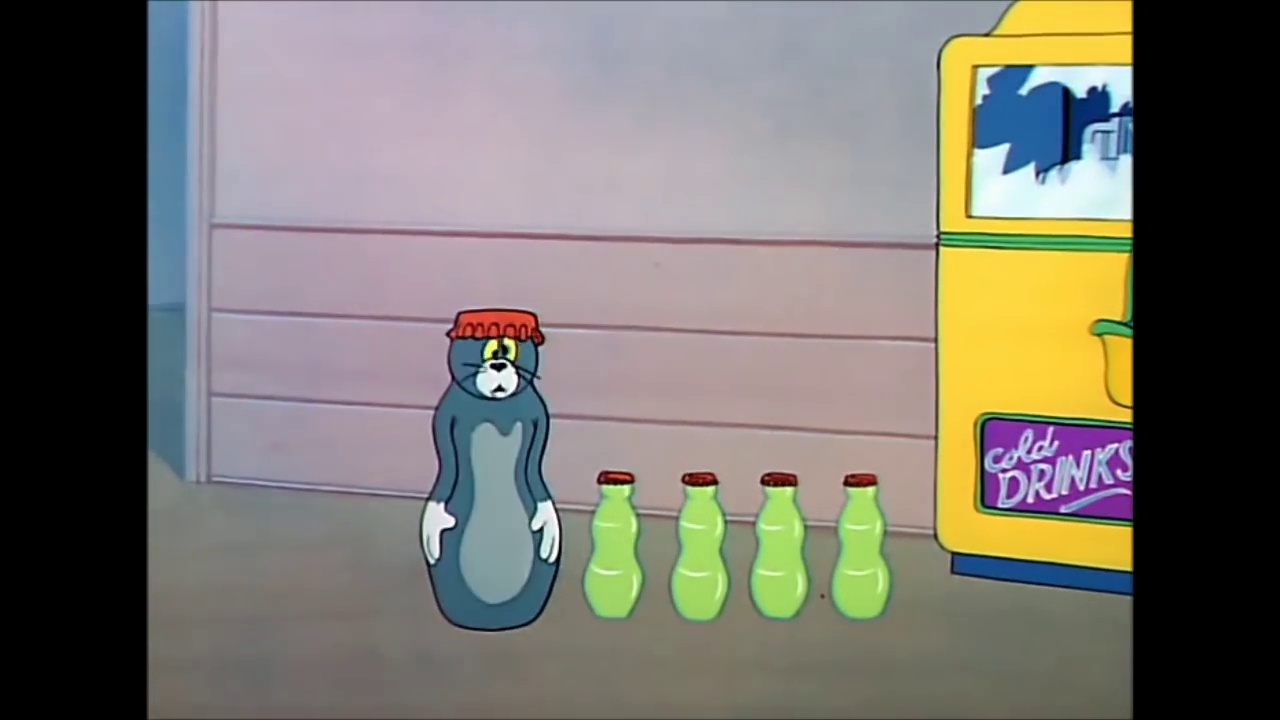sad: (476, 333, 525, 398)
